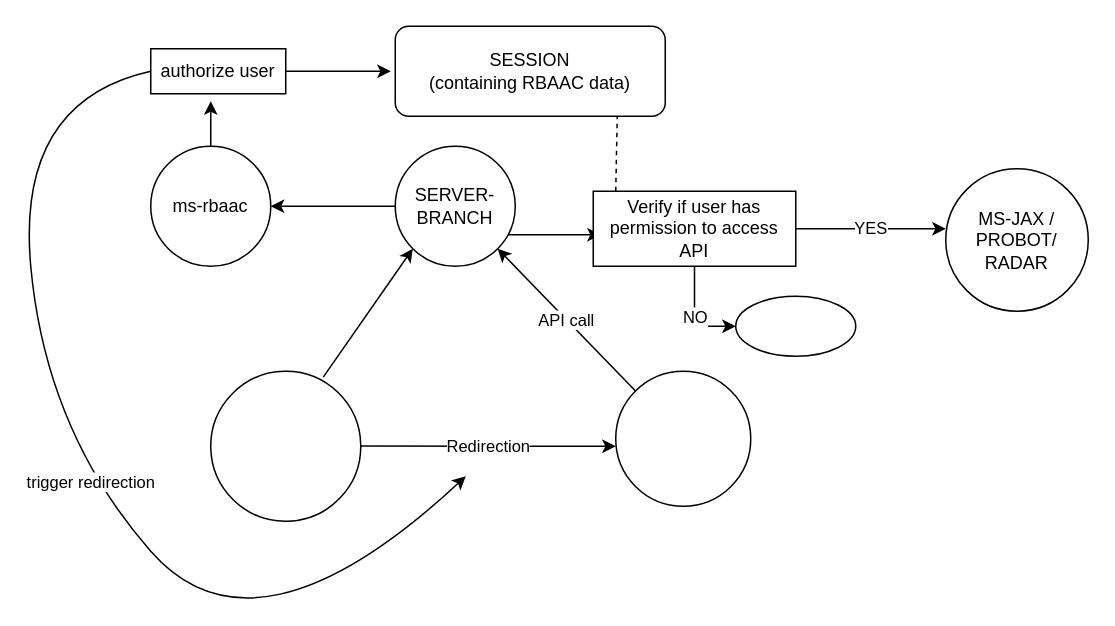
The diagram is 1115 pixels wide and 626 high, and some of its shapes have lost their labels. Each missing label, with the centre of its shape:
"ACCESS DENIED" belongs at (x=795, y=325).
"Branch Application" belongs at (x=682, y=438).
"SSO" belongs at (x=285, y=445).
